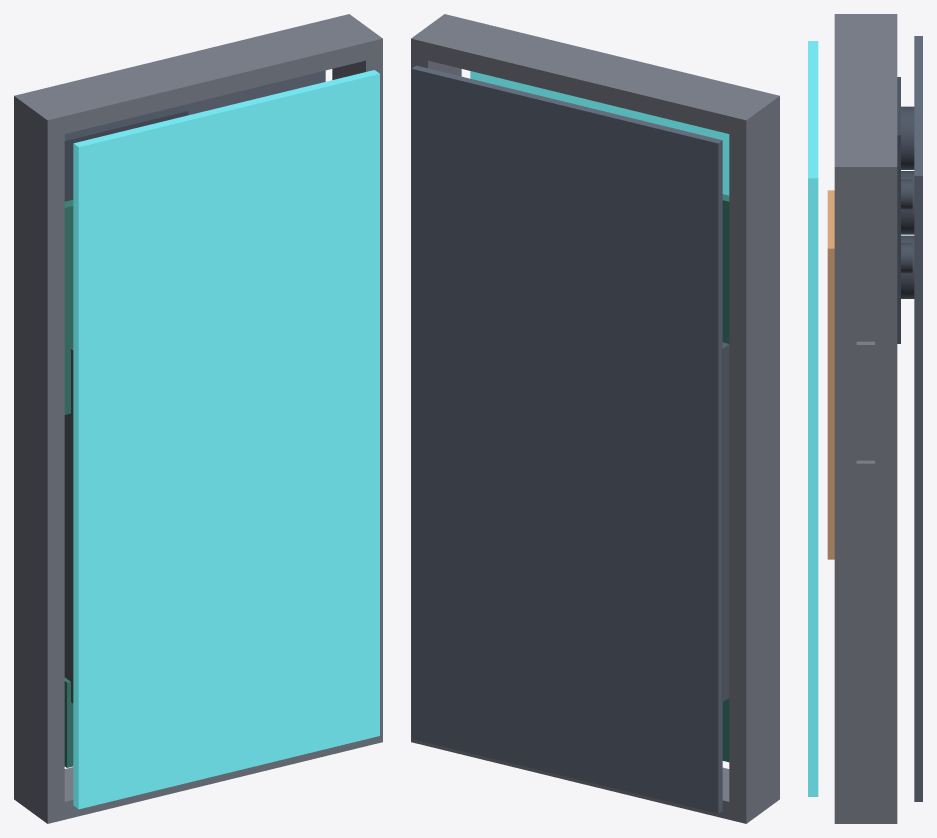
File: phone-opt.glb
3 renders of one model, left to right at view 1: azimuth 30°, elevation 25°; view 2: azimuth 150°, elevation 25°; view 3: azimuth 270°, elevation 25°, orthographic. The views are drawn at different scales.
Parts seen in each view (by area): view 1: screen_panel_board, motherboard_phone_chassis, power_battery_pack_psu, motherboard_main_pcb, gpu_camera_video_module, chassis_back_board; view 2: chassis_back_board, motherboard_phone_chassis, power_battery_pack_psu, screen_panel_board, motherboard_main_pcb; view 3: motherboard_phone_chassis, screen_panel_board, chassis_back_board, gpu_camera_video_module, cpu_soc_vapor_cooler.
Boxes of the visible parts, bbox=[...] form: screen_panel_board: bbox=[73, 70, 379, 809]; motherboard_phone_chassis: bbox=[14, 14, 382, 823]; power_battery_pack_psu: bbox=[64, 348, 73, 703]; motherboard_main_pcb: bbox=[64, 200, 73, 767]; gpu_camera_video_module: bbox=[64, 105, 188, 201]; chassis_back_board: bbox=[182, 70, 325, 115]; chassis_back_board: bbox=[411, 65, 722, 813]; motherboard_phone_chassis: bbox=[411, 14, 779, 823]; power_battery_pack_psu: bbox=[722, 342, 729, 701]; screen_panel_board: bbox=[470, 71, 729, 195]; motherboard_main_pcb: bbox=[722, 194, 729, 762]; motherboard_phone_chassis: bbox=[834, 14, 897, 823]; screen_panel_board: bbox=[808, 41, 818, 796]; chassis_back_board: bbox=[914, 36, 922, 801]; gpu_camera_video_module: bbox=[897, 77, 914, 343]; cpu_soc_vapor_cooler: bbox=[827, 190, 834, 559].
Bounding box in the file's own units: 4.41 × 8.68 × 1.37.
